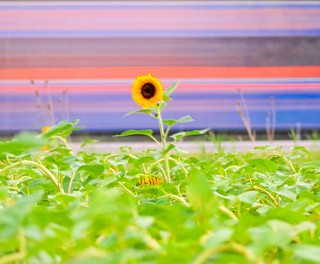flower: (128, 72, 166, 112)
